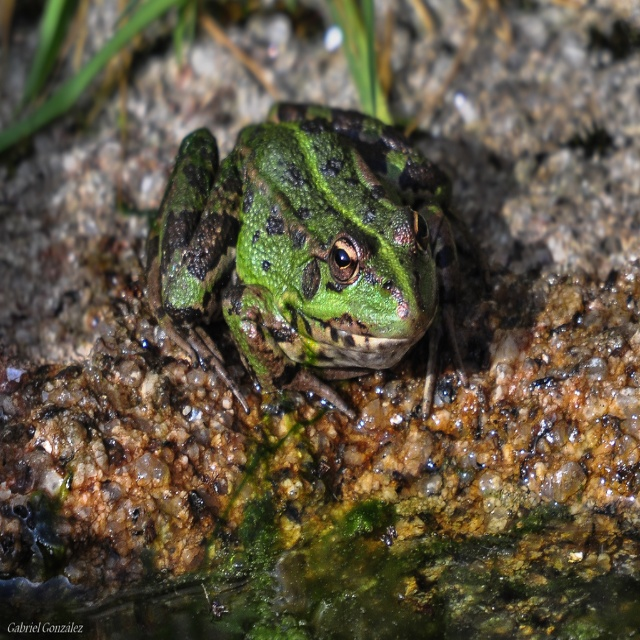Frog: (143, 96, 471, 418)
